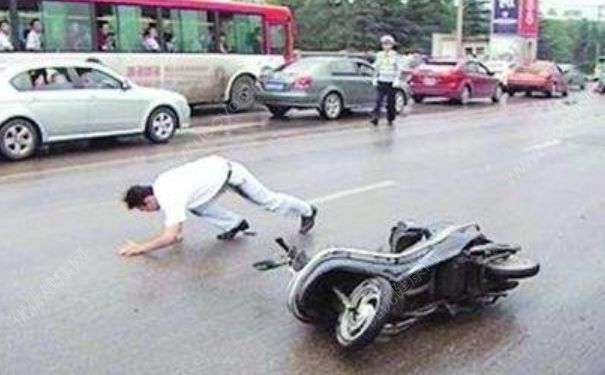fall: (107, 146, 327, 261)
